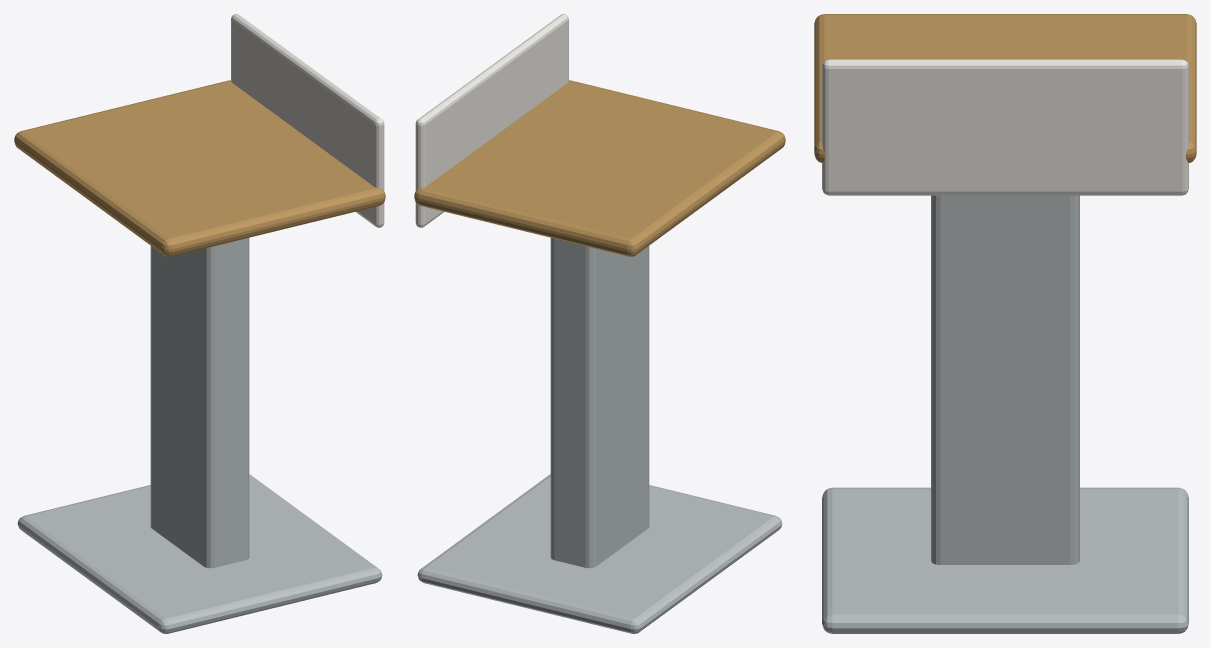
Rendered from lectern.glb.
3 renders of one model, left to right at view 1: azimuth 30°, elevation 25°; view 2: azimuth 150°, elevation 25°; view 3: azimuth 270°, elevation 25°, orthographic. The views are drawn at different scales.
Parts seen in each view (by area): view 1: Teaching lectern timber worktop, Teaching lectern central support, Teaching lectern thin floor plate, Teaching lectern white front; view 2: Teaching lectern timber worktop, Teaching lectern central support, Teaching lectern thin floor plate, Teaching lectern white front; view 3: Teaching lectern central support, Teaching lectern white front, Teaching lectern thin floor plate, Teaching lectern timber worktop.
Boxes of the visible parts, bbox=[...] form: Teaching lectern timber worktop: bbox=[14, 80, 385, 256]; Teaching lectern central support: bbox=[150, 238, 249, 568]; Teaching lectern thin floor plate: bbox=[17, 474, 382, 633]; Teaching lectern white front: bbox=[231, 14, 384, 227]; Teaching lectern timber worktop: bbox=[414, 80, 785, 256]; Teaching lectern central support: bbox=[550, 238, 649, 568]; Teaching lectern thin floor plate: bbox=[417, 474, 782, 633]; Teaching lectern white front: bbox=[415, 14, 568, 227]; Teaching lectern central support: bbox=[931, 195, 1079, 564]; Teaching lectern white front: bbox=[822, 59, 1188, 195]; Teaching lectern thin floor plate: bbox=[822, 487, 1188, 633]; Teaching lectern timber worktop: bbox=[814, 14, 1196, 162].
Bounding box in the file's own units: 0.6025 × 1.19 × 0.72.
